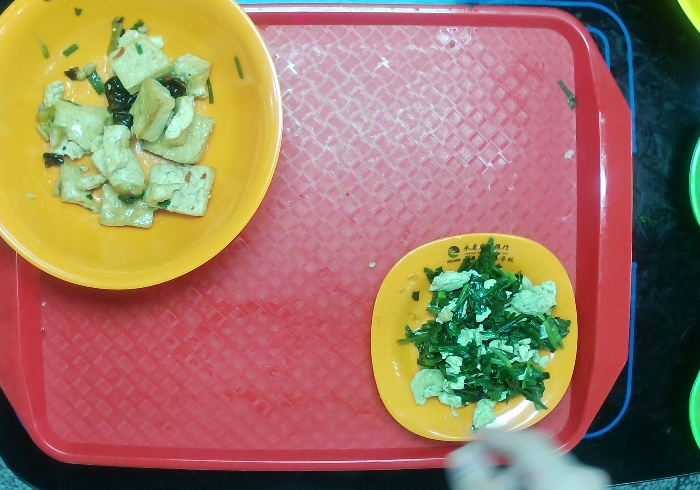YKMZ-Ju_Se_Fang_Die: (370, 231, 581, 444)
YKMZ-Ju_Se_Tang_Wan: (1, 1, 282, 289)
